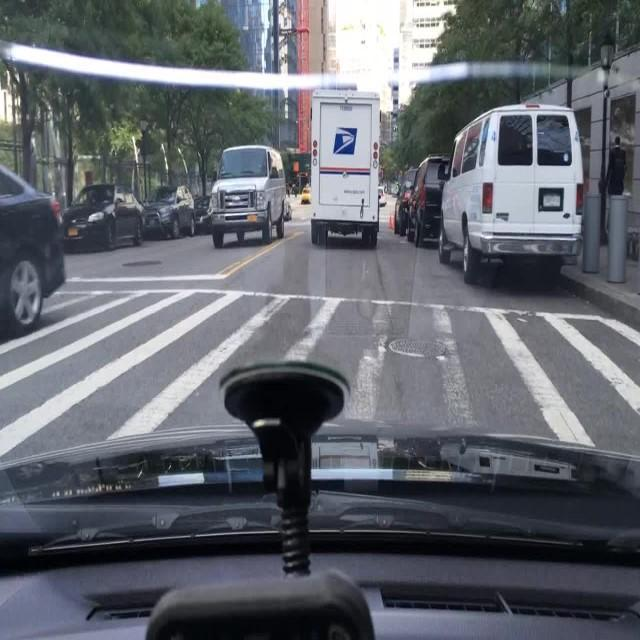normal: (434, 105, 580, 289), (306, 85, 385, 246), (0, 166, 66, 341), (207, 144, 290, 249), (57, 183, 163, 251), (397, 152, 451, 241), (141, 187, 193, 239)
